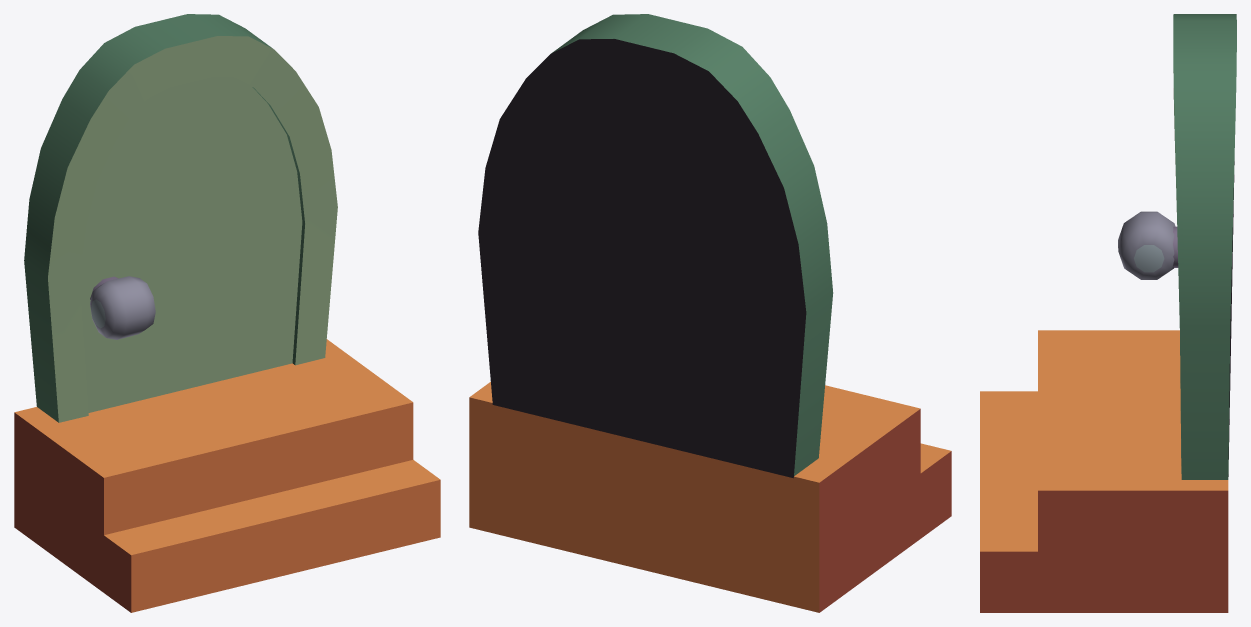
File: Door03_Green_Wood.glb
3 renders of one model, left to right at view 1: azimuth 30°, elevation 25°; view 2: azimuth 150°, elevation 25°; view 3: azimuth 270°, elevation 25°, orthographic. The views are drawn at different scales.
Parts seen in each view (by area): view 1: Door03_Green_Wood; view 2: Door03_Green_Wood; view 3: Door03_Green_Wood.
Part boxes in pixels (left/top/right/bottom): Door03_Green_Wood: left=14, top=14, right=440, bottom=612; Door03_Green_Wood: left=469, top=14, right=951, bottom=612; Door03_Green_Wood: left=980, top=14, right=1236, bottom=612.
Size of the model in its own units: 0.9795 by 1.41 by 0.6625.
1 material, 1 textured.
